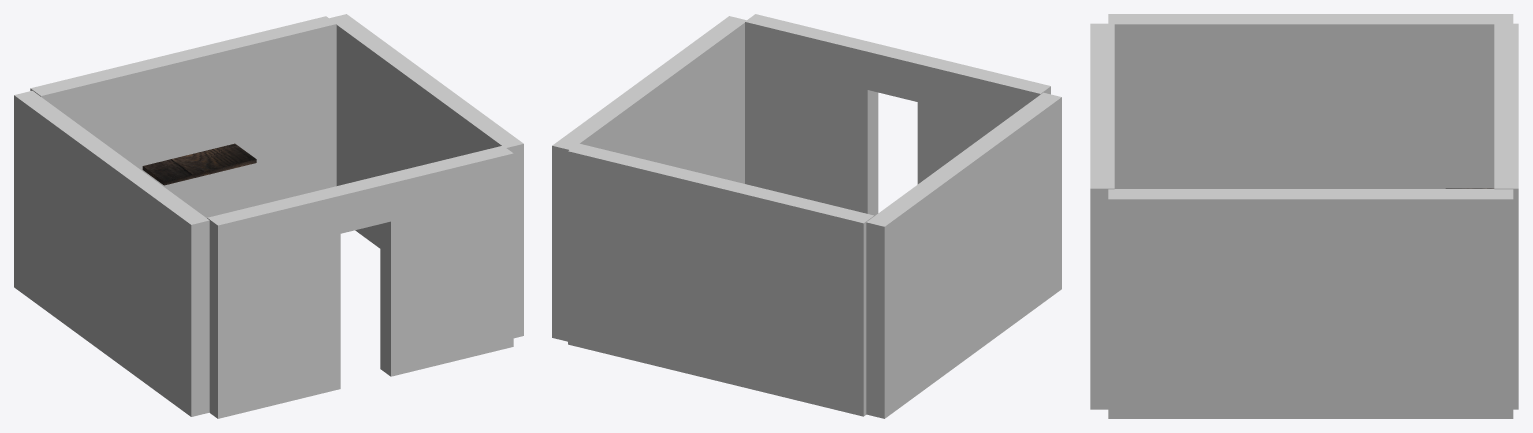
File: desk.glb
3 renders of one model, left to right at view 1: azimuth 30°, elevation 25°; view 2: azimuth 150°, elevation 25°; view 3: azimuth 270°, elevation 25°, orthographic. The views are drawn at different scales.
Parts seen in each view (by area): view 1: Cube.002, Cube.004, Cube.001, Cube.003, Cube; view 2: Cube.001, Cube.004, Cube.002, Cube.003; view 3: Cube.003, Cube.004, Cube.002, Cube.001.
Boxes of the visible parts, <box> form: Cube.002: <box>207,145,513,418</box>; Cube.004: <box>14,90,209,416</box>; Cube.001: <box>30,16,336,218</box>; Cube.003: <box>329,14,523,338</box>; Cube: <box>142,143,256,185</box>; Cube.001: <box>568,143,874,416</box>; Cube.004: <box>866,92,1061,418</box>; Cube.002: <box>745,14,1050,215</box>; Cube.003: <box>552,16,746,341</box>; Cube.003: <box>1108,189,1513,418</box>; Cube.004: <box>1108,14,1513,188</box>; Cube.002: <box>1090,23,1114,409</box>; Cube.001: <box>1494,23,1518,409</box>.
Size of the model in its own units: 36 by 20 by 35.15.
Materials: 1 (1 with a texture image).
